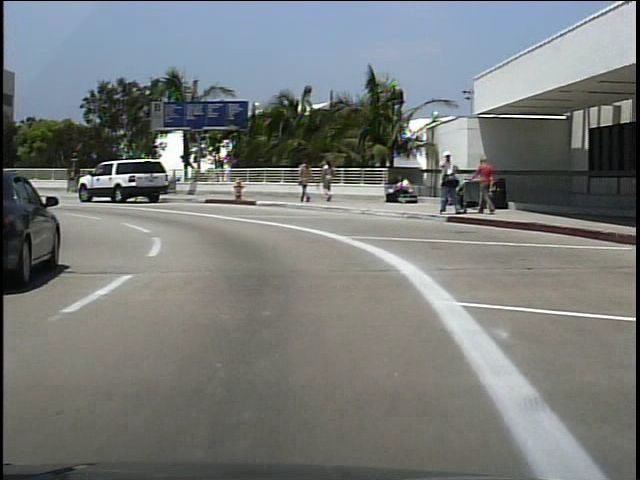person: (439, 149, 463, 221), (476, 155, 498, 216), (297, 157, 314, 206), (318, 160, 335, 208), (389, 176, 411, 205)
